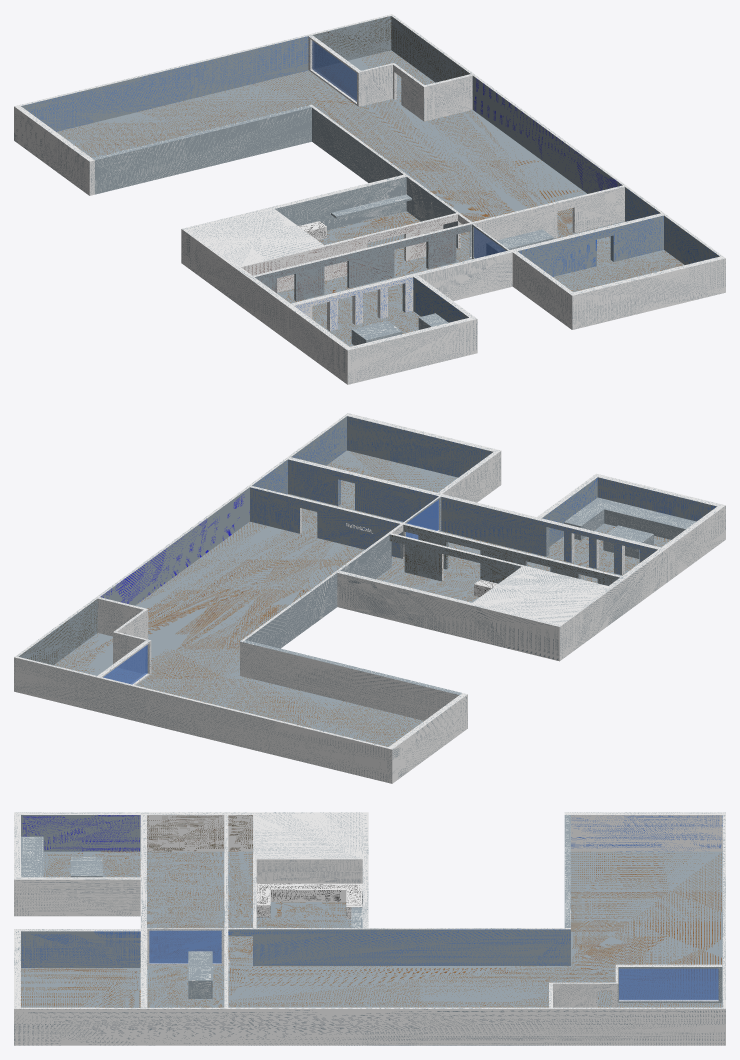
The model's file is 4thflooredit.fbx.
The picture shows the model from 3 angles, top to bottom: view 1: azimuth 30°, elevation 25°; view 2: azimuth 150°, elevation 25°; view 3: azimuth 270°, elevation 25°; orthographic projection. The views are drawn at different scales.
Visible parts, largest first — view 1: Model, Glass_Wall2, Glass_Wall1; view 2: Model, Glass_Wall2, Glass_Wall1; view 3: Model, Glass_Wall2, Glass_Wall1.
Part boxes in pixels (x1,y1,x2,y2): Model: [14, 14, 725, 384]; Glass_Wall2: [308, 35, 362, 106]; Glass_Wall1: [472, 223, 509, 258]; Model: [14, 413, 725, 783]; Glass_Wall2: [97, 639, 151, 685]; Glass_Wall1: [403, 496, 440, 556]; Model: [14, 812, 725, 1045]; Glass_Wall2: [615, 964, 722, 1002]; Glass_Wall1: [147, 928, 224, 965].
Size of the model in its own units: 23.05 by 2.01 by 35.22.
